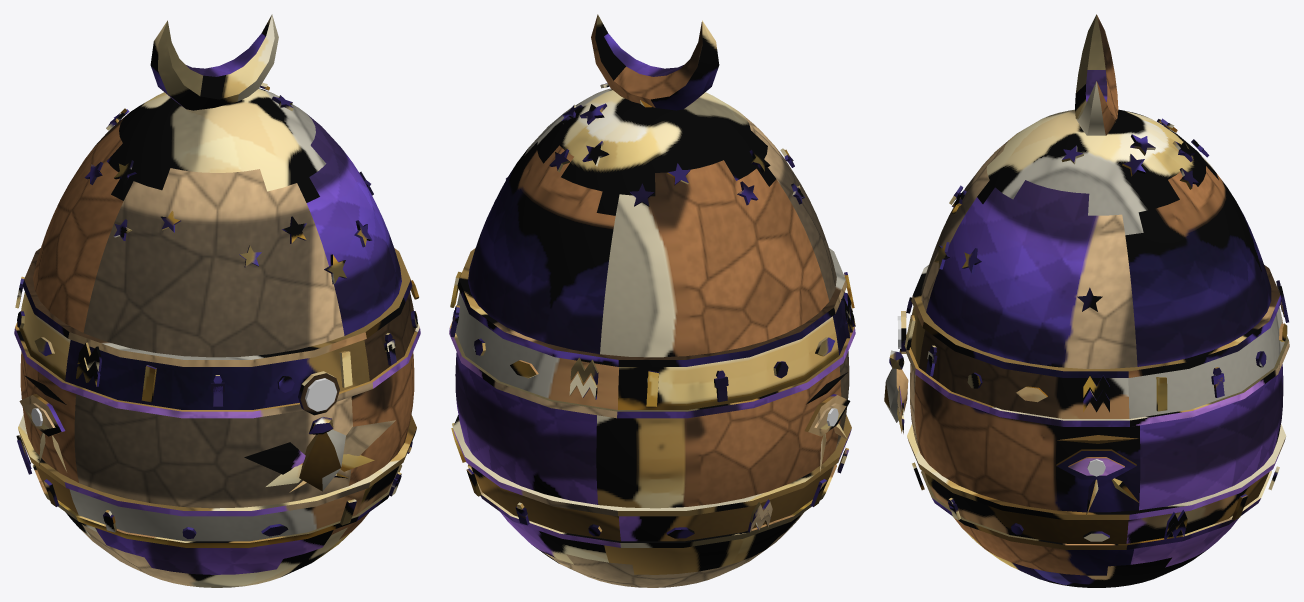
File: egg_dusk.fbx
3 renders of one model, left to right at view 1: azimuth 30°, elevation 25°; view 2: azimuth 150°, elevation 25°; view 3: azimuth 270°, elevation 25°, orthographic. The views are drawn at different scales.
Parts seen in each view (by area): view 1: egg_dusk_body, egg_dusk_body_glow; view 2: egg_dusk_body; view 3: egg_dusk_body.
Boxes of the visible parts, bbox=[...] form: egg_dusk_body: bbox=[14, 14, 420, 587]; egg_dusk_body_glow: bbox=[31, 378, 336, 426]; egg_dusk_body: bbox=[449, 14, 855, 587]; egg_dusk_body: bbox=[884, 14, 1289, 587].
Bounding box in the file's own units: 238 × 349 × 243.
Materials: 2 (1 with a texture image).
